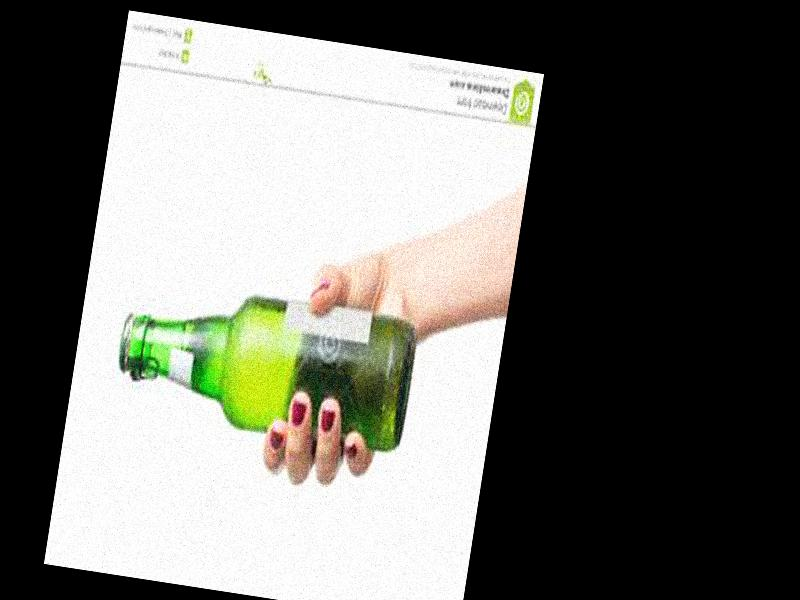Beer: (108, 271, 419, 462)
